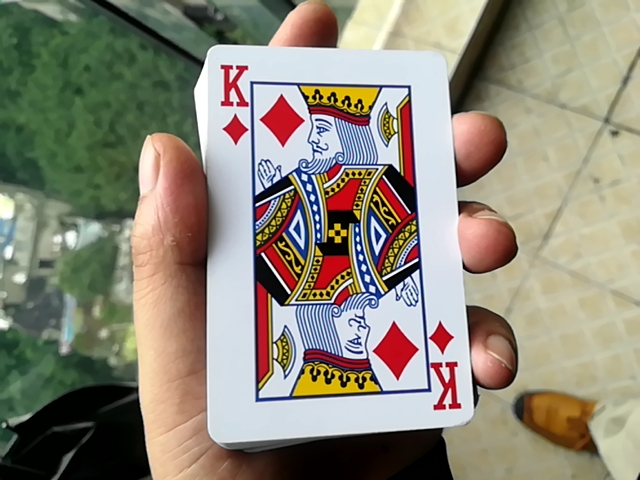fk k: (181, 31, 474, 435)
